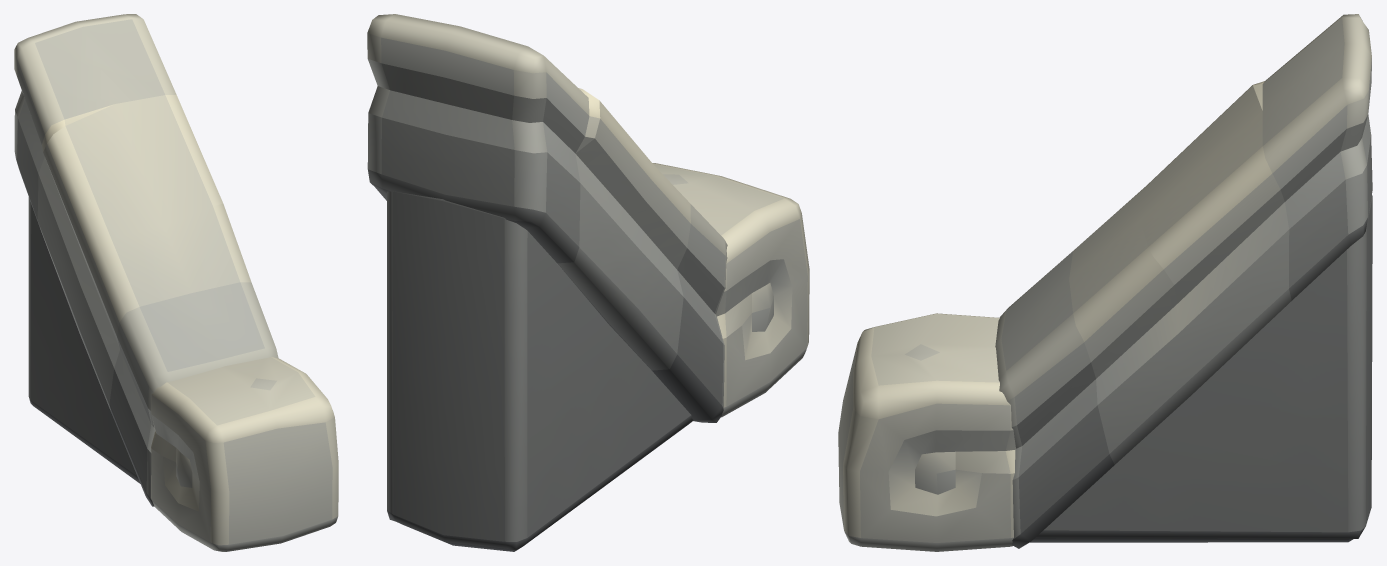
The model's file is ballustrade_stair_ornate1_LOD_setup.fbx.
The picture shows the model from 3 angles, left to right: view 1: azimuth 30°, elevation 25°; view 2: azimuth 150°, elevation 25°; view 3: azimuth 270°, elevation 25°; orthographic projection. The views are drawn at different scales.
Visible parts, largest first — view 1: ballustrade_stair_ornate1_LOD0; view 2: ballustrade_stair_ornate1_LOD0; view 3: ballustrade_stair_ornate1_LOD0.
Boxes of the visible parts, x1,y1,x2,y2 form: ballustrade_stair_ornate1_LOD0: (14, 14, 338, 551); ballustrade_stair_ornate1_LOD0: (367, 14, 809, 551); ballustrade_stair_ornate1_LOD0: (838, 14, 1372, 551).
Size of what is drawn, in the model's own units: 59.53 by 157 by 158.
